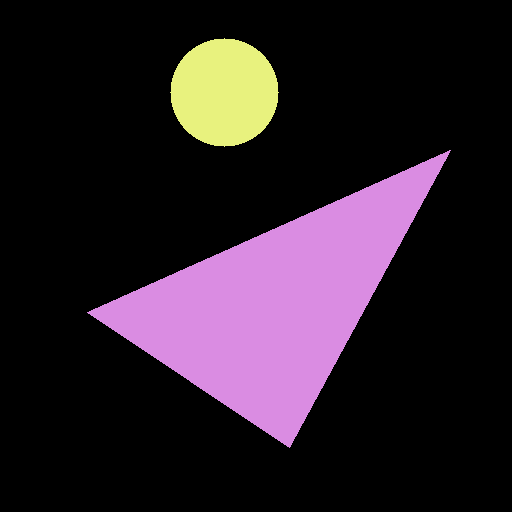circle: (170, 38, 278, 146)
triangle: (87, 150, 450, 447)
